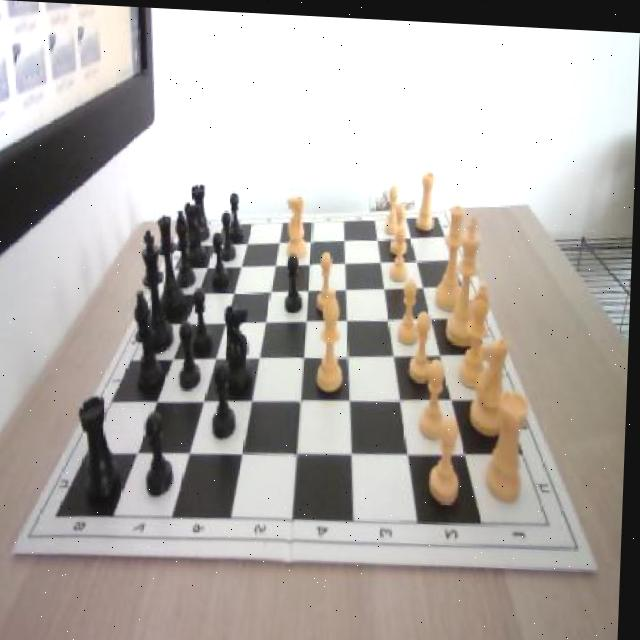bishop: (133, 289, 167, 391), (175, 206, 199, 288)
black-bishop: (140, 226, 180, 353)
black-king: (222, 299, 262, 394), (185, 200, 208, 262)
black-knight: (147, 410, 179, 495), (213, 360, 241, 438), (180, 319, 206, 389), (194, 284, 216, 352), (285, 249, 305, 311), (212, 229, 232, 287), (229, 190, 246, 240), (223, 208, 239, 261)
black-pawn: (156, 211, 191, 318)
black-queen: (80, 393, 129, 502), (192, 182, 212, 240)
black-rook: (458, 277, 498, 384), (319, 287, 349, 389)
white-bishop: (447, 211, 490, 345)
white-king: (472, 330, 514, 434), (286, 190, 314, 257)
white-knight: (431, 414, 466, 505), (420, 351, 453, 437), (410, 305, 439, 382), (399, 275, 425, 344), (317, 250, 339, 310), (392, 222, 413, 280), (385, 180, 404, 231), (391, 199, 410, 250), (229, 190, 246, 240)
white-pawn: (436, 200, 472, 307)
white-queen: (489, 383, 532, 498), (417, 166, 437, 230)
